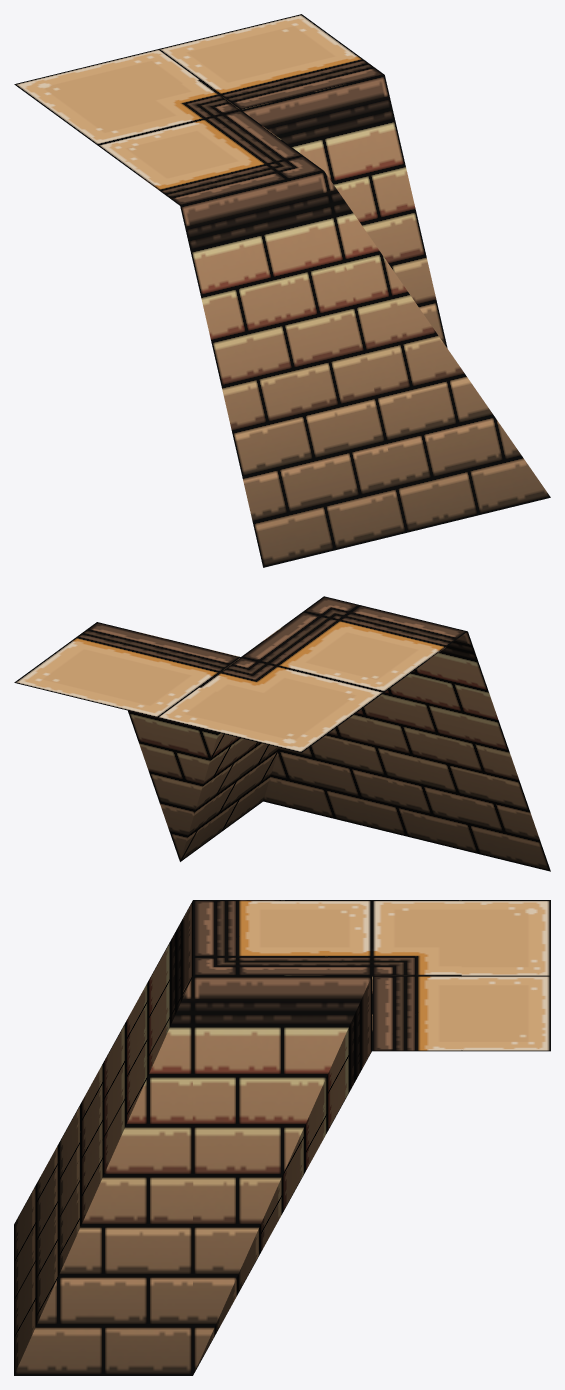
Rendered from wall_cornerOutIn_right.FBX.
The picture shows the model from 3 angles, top to bottom: view 1: azimuth 30°, elevation 25°; view 2: azimuth 150°, elevation 25°; view 3: azimuth 270°, elevation 25°; orthographic projection. The views are drawn at different scales.
Visible parts, largest first — view 1: wall_cornerOutIn_right; view 2: wall_cornerOutIn_right; view 3: wall_cornerOutIn_right.
Boxes of the visible parts, x1=… form: wall_cornerOutIn_right: x1=14, y1=14, x2=550, y2=567; wall_cornerOutIn_right: x1=14, y1=596, x2=550, y2=871; wall_cornerOutIn_right: x1=14, y1=900, x2=550, y2=1375.
Bounding box in the file's own units: 4 × 4 × 6.
1 material, 1 textured.
